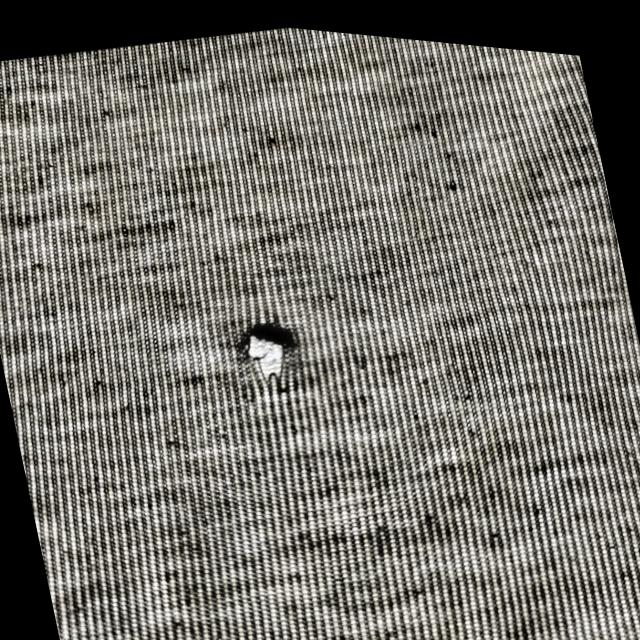Hole: (227, 304, 309, 398)
